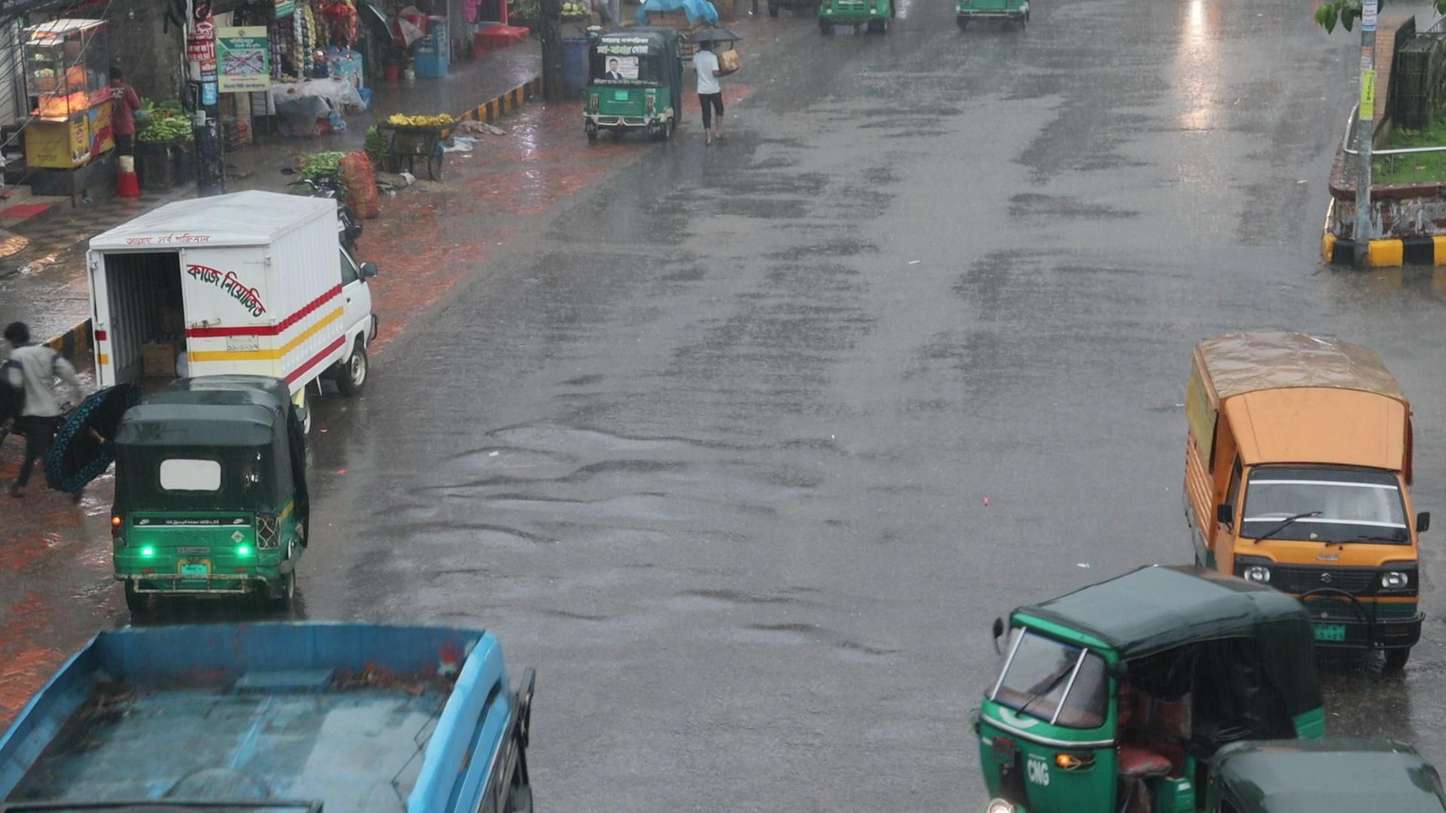Truck: (1185, 319, 1432, 582)
